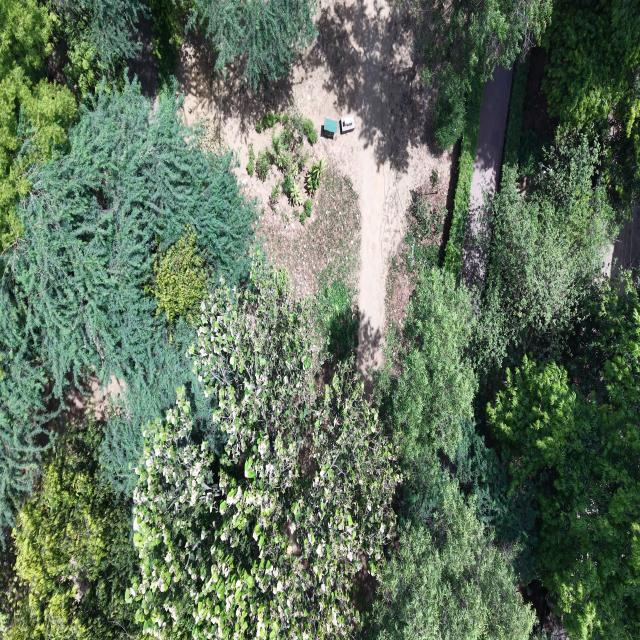DRY_AREA: (176, 0, 451, 372), (461, 67, 512, 289), (470, 67, 512, 207), (51, 375, 125, 431), (522, 47, 558, 145), (128, 16, 157, 100), (609, 201, 639, 274), (602, 243, 615, 277)
VEGETATION_TREE: (0, 0, 639, 639), (117, 264, 532, 638), (8, 264, 399, 638), (369, 137, 639, 638), (0, 81, 255, 517), (473, 3, 639, 638), (129, 263, 399, 638), (0, 0, 315, 250), (3, 83, 253, 389), (368, 268, 534, 639), (488, 279, 639, 638), (420, 3, 639, 221), (415, 0, 551, 274), (0, 0, 146, 250), (475, 137, 614, 379), (7, 419, 138, 639), (514, 0, 639, 222), (369, 483, 533, 639), (381, 268, 475, 522), (415, 0, 551, 148), (544, 0, 639, 209), (265, 164, 360, 370), (0, 0, 76, 250), (266, 163, 360, 353), (145, 0, 316, 89), (0, 308, 51, 550), (545, 0, 639, 125), (189, 0, 316, 89), (563, 272, 638, 403), (50, 0, 148, 97), (444, 78, 482, 275), (387, 174, 446, 299), (256, 111, 316, 223), (152, 227, 208, 324), (314, 267, 359, 361), (149, 0, 191, 87), (605, 116, 639, 221), (401, 191, 445, 270), (503, 56, 530, 172), (270, 113, 309, 177), (0, 543, 24, 635), (256, 110, 317, 145), (517, 129, 554, 183), (272, 136, 299, 179), (306, 158, 325, 195), (255, 149, 271, 182), (256, 112, 281, 133), (303, 118, 318, 145), (269, 179, 282, 208), (288, 181, 302, 206), (300, 199, 312, 224), (246, 143, 255, 176), (429, 168, 440, 193), (282, 176, 293, 197)
